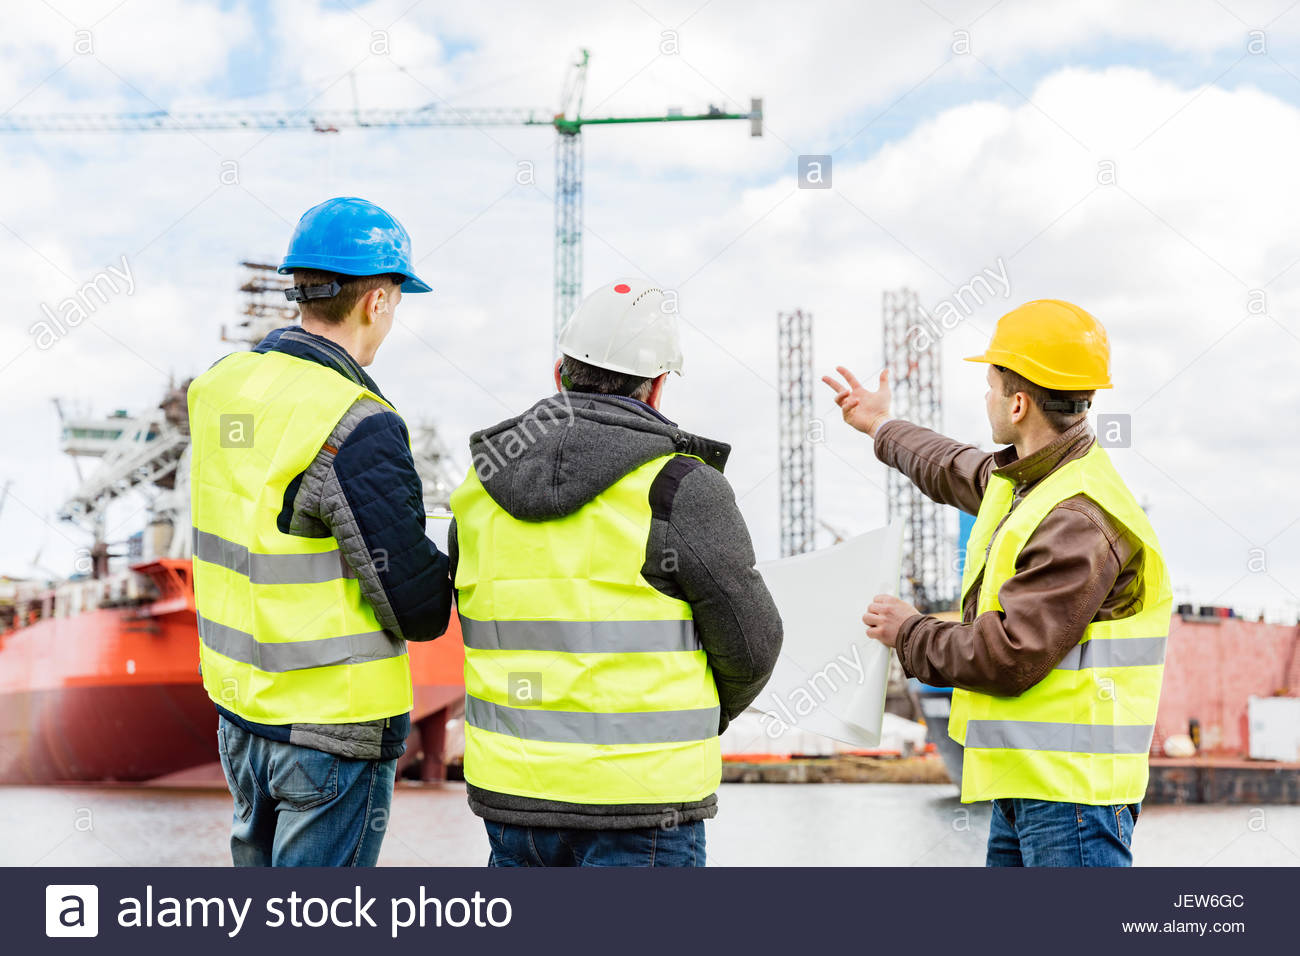casco: (276, 195, 435, 300), (962, 297, 1118, 394), (553, 276, 687, 381)
